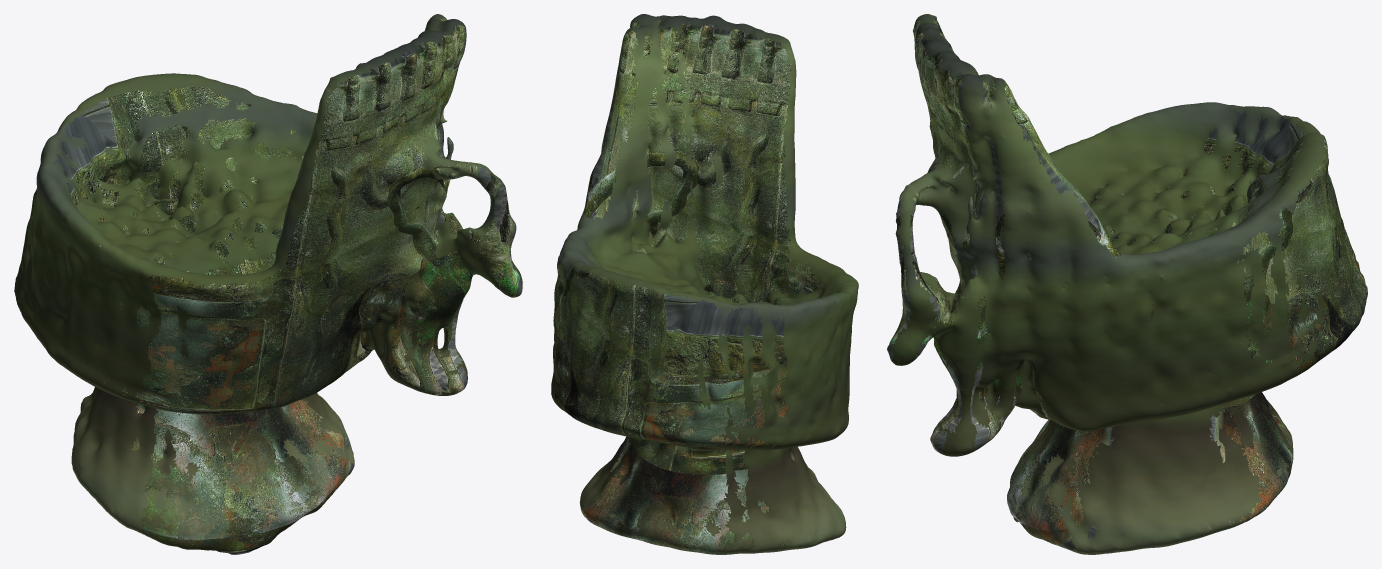
The model's file is ane-24.glb.
3 renders of one model, left to right at view 1: azimuth 30°, elevation 25°; view 2: azimuth 150°, elevation 25°; view 3: azimuth 270°, elevation 25°, orthographic. The views are drawn at different scales.
Parts seen in each view (by area): view 1: ane-24; view 2: ane-24; view 3: ane-24.
Part boxes in pixels (x1,y1,x2,y2): ane-24: (14, 14, 522, 554); ane-24: (551, 14, 858, 554); ane-24: (887, 14, 1367, 554).
Bounding box in the file's own units: 0.7163 × 0.9935 × 0.8072.
Materials: 4 (4 with a texture image).
